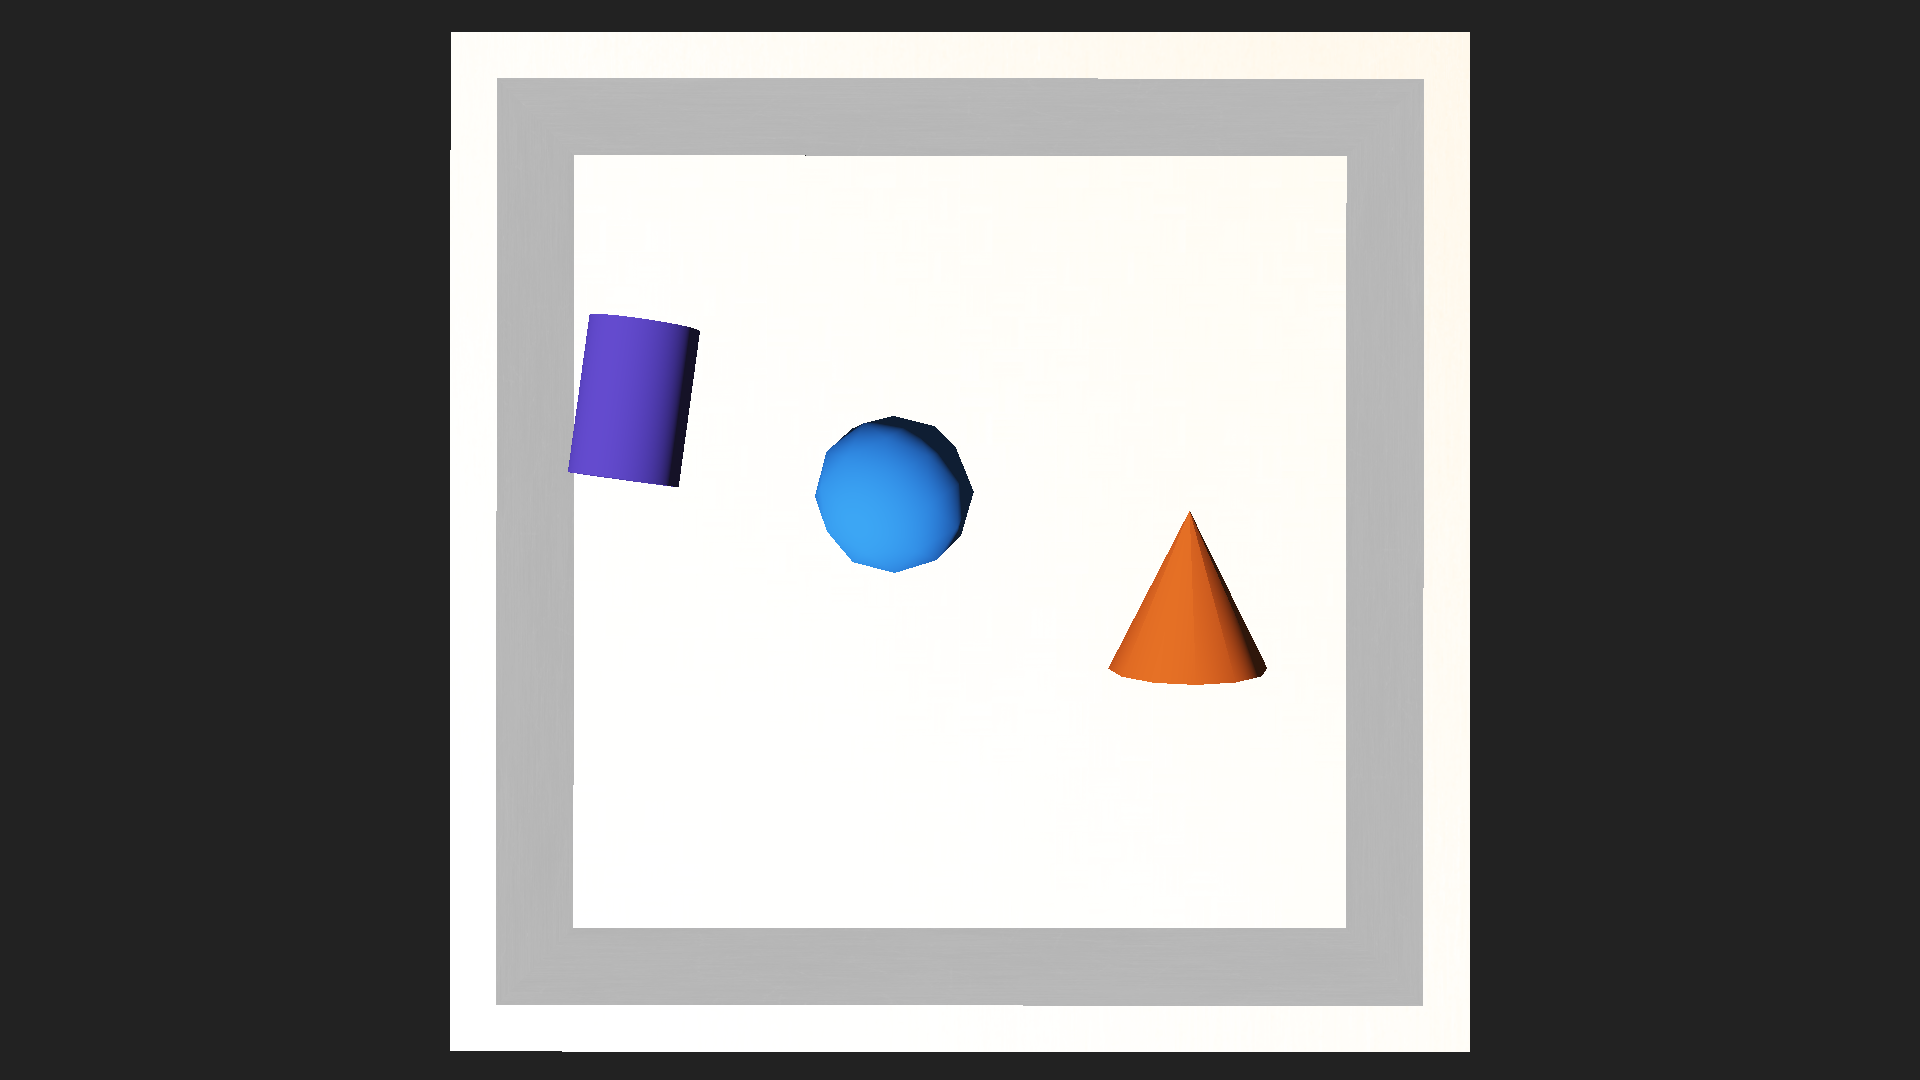cone: (559, 310, 705, 488)
cylinder: (1110, 498, 1271, 684)
sphere: (814, 413, 973, 574)
